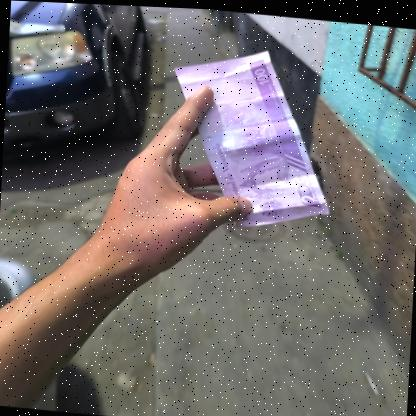one_hundred-back-vef: (164, 38, 338, 235)
